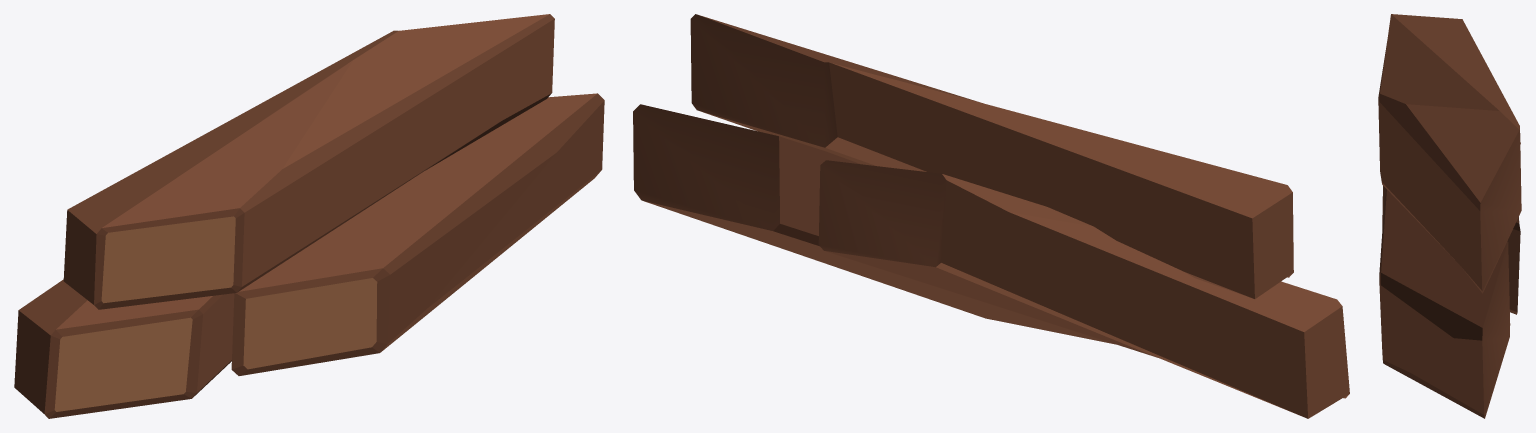
The model's file is icon_planks.fbx.
3 renders of one model, left to right at view 1: azimuth 30°, elevation 25°; view 2: azimuth 150°, elevation 25°; view 3: azimuth 270°, elevation 25°, orthographic. The views are drawn at different scales.
Visible parts, largest first — view 1: planks.001; view 2: planks.001; view 3: planks.001.
Part boxes in pixels (bbox=[...]): planks.001: bbox=[14, 14, 604, 418]; planks.001: bbox=[633, 14, 1349, 418]; planks.001: bbox=[1378, 14, 1521, 418].
Bounding box in the file's own units: 57.62 × 23.55 × 10.99.
